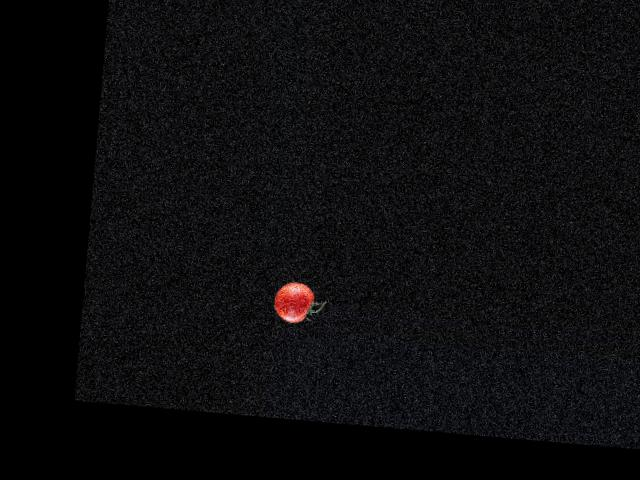tomato: (272, 280, 316, 323)
